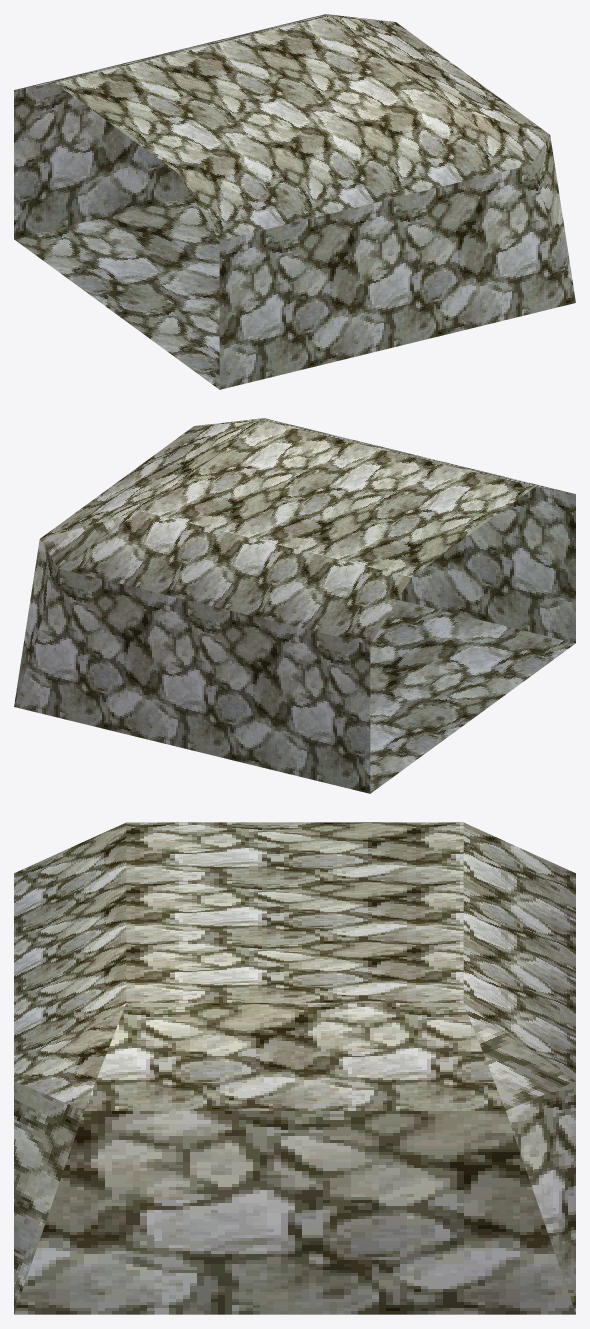
File: bk_dossunbar_l.glb
3 views of the same model, one above another, from view 1: azimuth 30°, elevation 25°; view 2: azimuth 150°, elevation 25°; view 3: azimuth 270°, elevation 25° (orthographic). The views are drawn at different scales.
Visible parts, largest first — view 1: bk_dossunbar_l; view 2: bk_dossunbar_l; view 3: bk_dossunbar_l.
Boxes of the visible parts, <box> form: bk_dossunbar_l: <box>14,14,575,389</box>; bk_dossunbar_l: <box>14,418,575,793</box>; bk_dossunbar_l: <box>14,822,575,1314</box>.
Bounding box in the file's own units: 62.5 × 31.25 × 62.5.
1 material, 1 textured.
